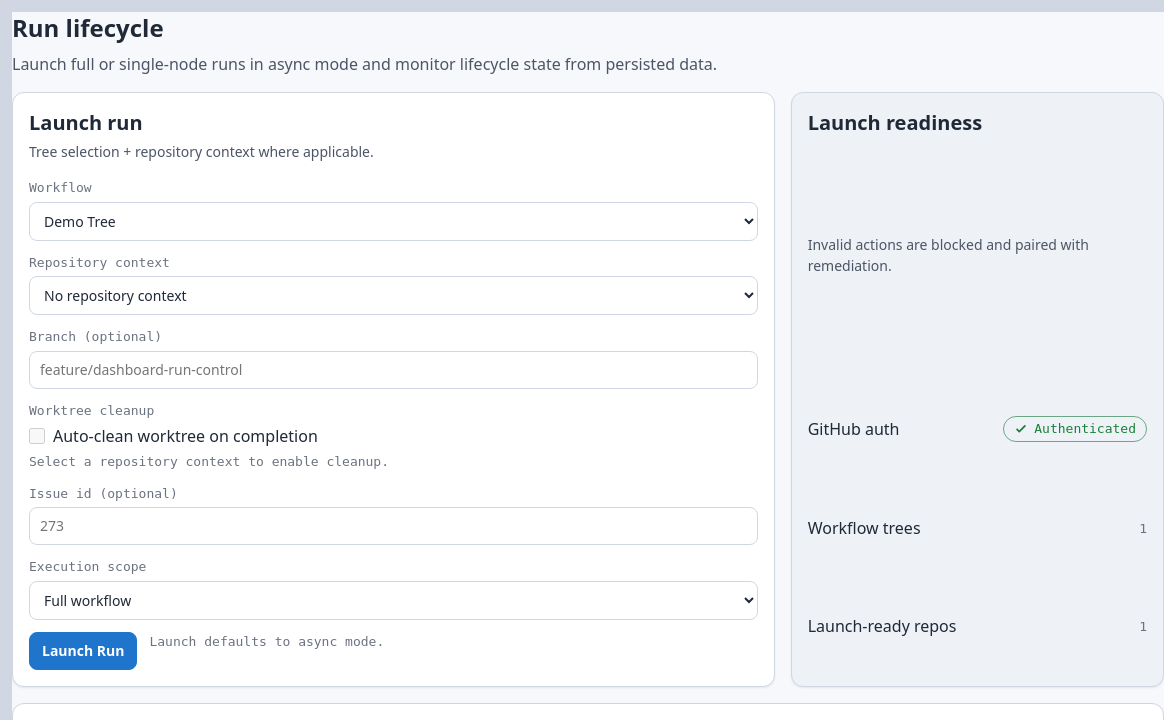
RunsPage › resets auto-clean worktree when repository context is cleared
Expected: the checkbox labelled "Auto-clean worktree on completion" is disabled, [29, 428, 45, 444]
Expected: the checkbox labelled "Auto-clean worktree on completion" is not checked, [29, 428, 45, 444]
Select "sample-repo" in the dropdown labelled "Repository context" at [393, 296], box [29, 276, 758, 315]
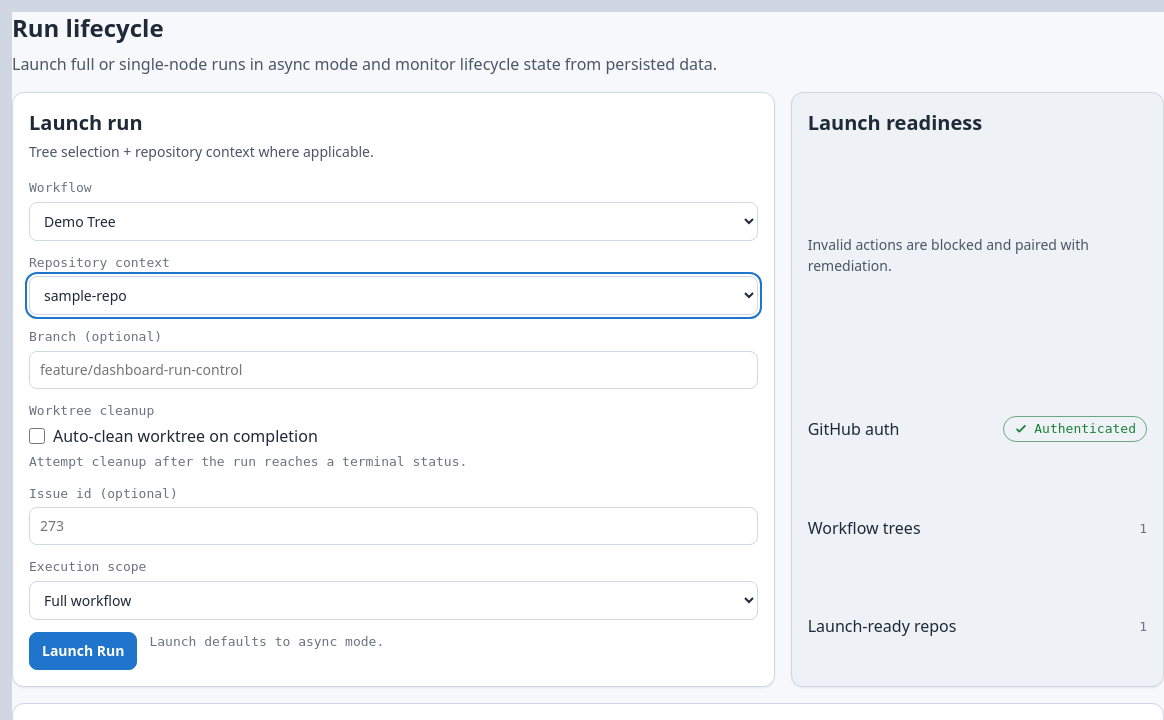
Now the checkbox labelled "Auto-clean worktree on completion" is enabled
Click the checkbox labelled "Auto-clean worktree on completion".
click(37, 436)  # box [29, 428, 45, 444]
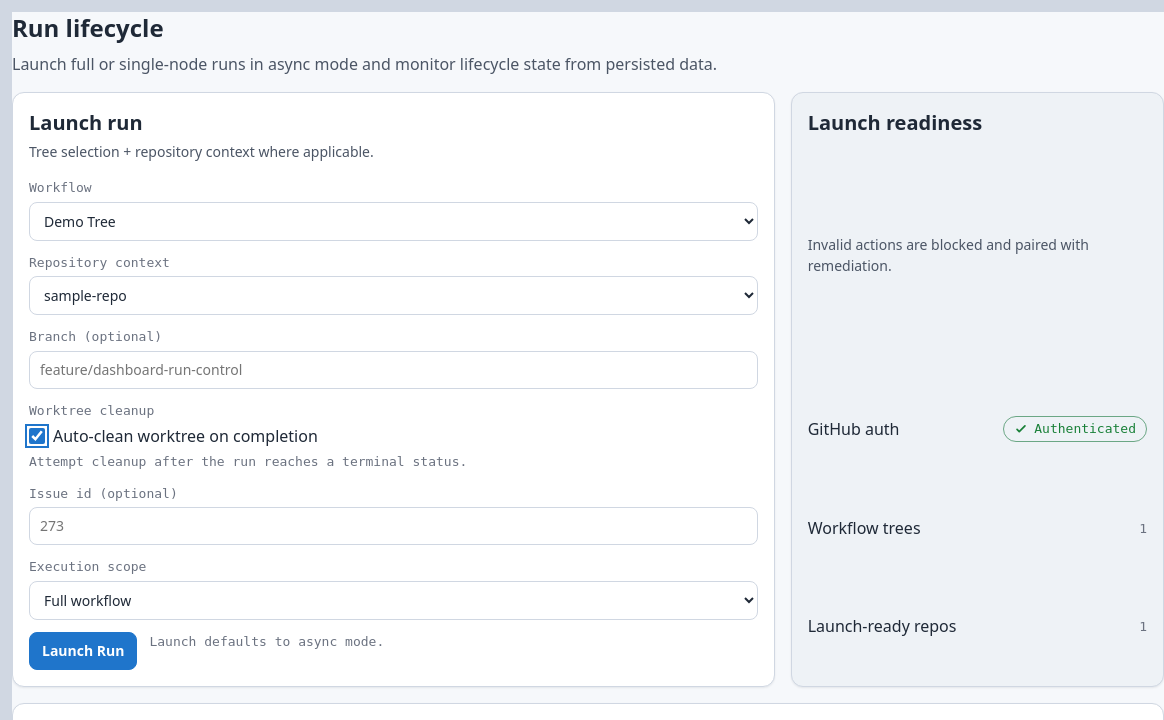
Now the checkbox labelled "Auto-clean worktree on completion" is checked, box [29, 428, 45, 444]
Select "No repository context" in the dropdown labelled "Repository context" at [393, 296], box [29, 276, 758, 315]
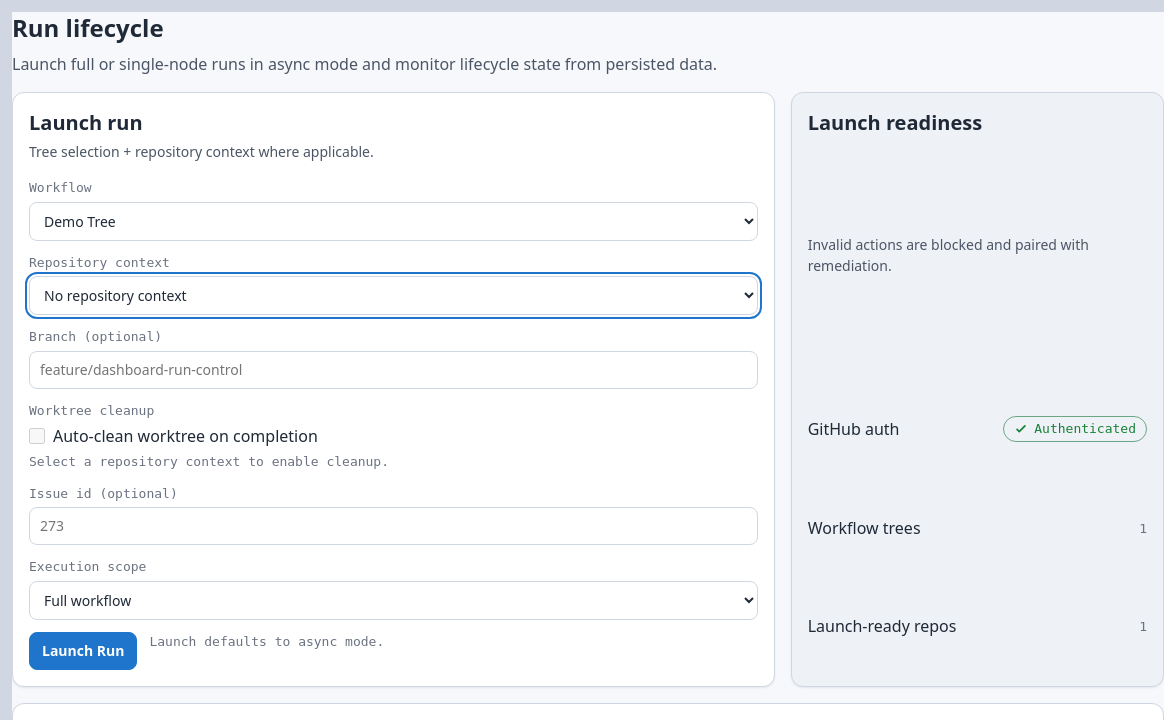
Now the checkbox labelled "Auto-clean worktree on completion" is not checked, box [29, 428, 45, 444]
Now the checkbox labelled "Auto-clean worktree on completion" is disabled, box [29, 428, 45, 444]
